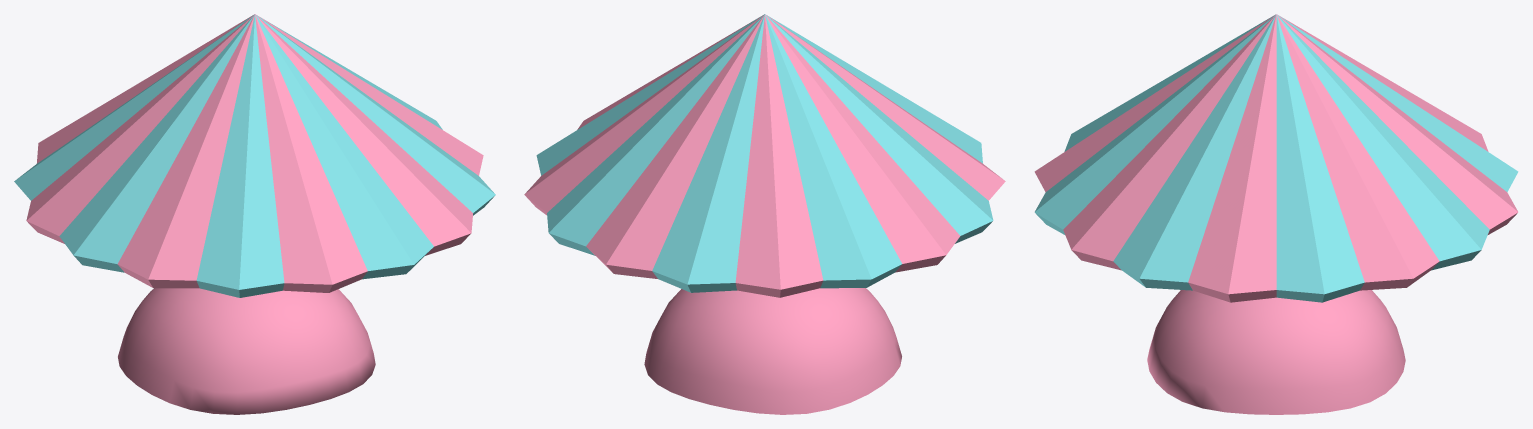
The model's file is semsiyesapka.fbx.
3 renders of one model, left to right at view 1: azimuth 30°, elevation 25°; view 2: azimuth 150°, elevation 25°; view 3: azimuth 270°, elevation 25°, orthographic. The views are drawn at different scales.
Visible parts, largest first — view 1: Cone; view 2: Cone; view 3: Cone.
Boxes of the visible parts, x1=… form: Cone: x1=14, y1=14, x2=495, y2=414; Cone: x1=524, y1=14, x2=1005, y2=414; Cone: x1=1034, y1=14, x2=1518, y2=414.
Size of the model in its own units: 330 by 266 by 330.
